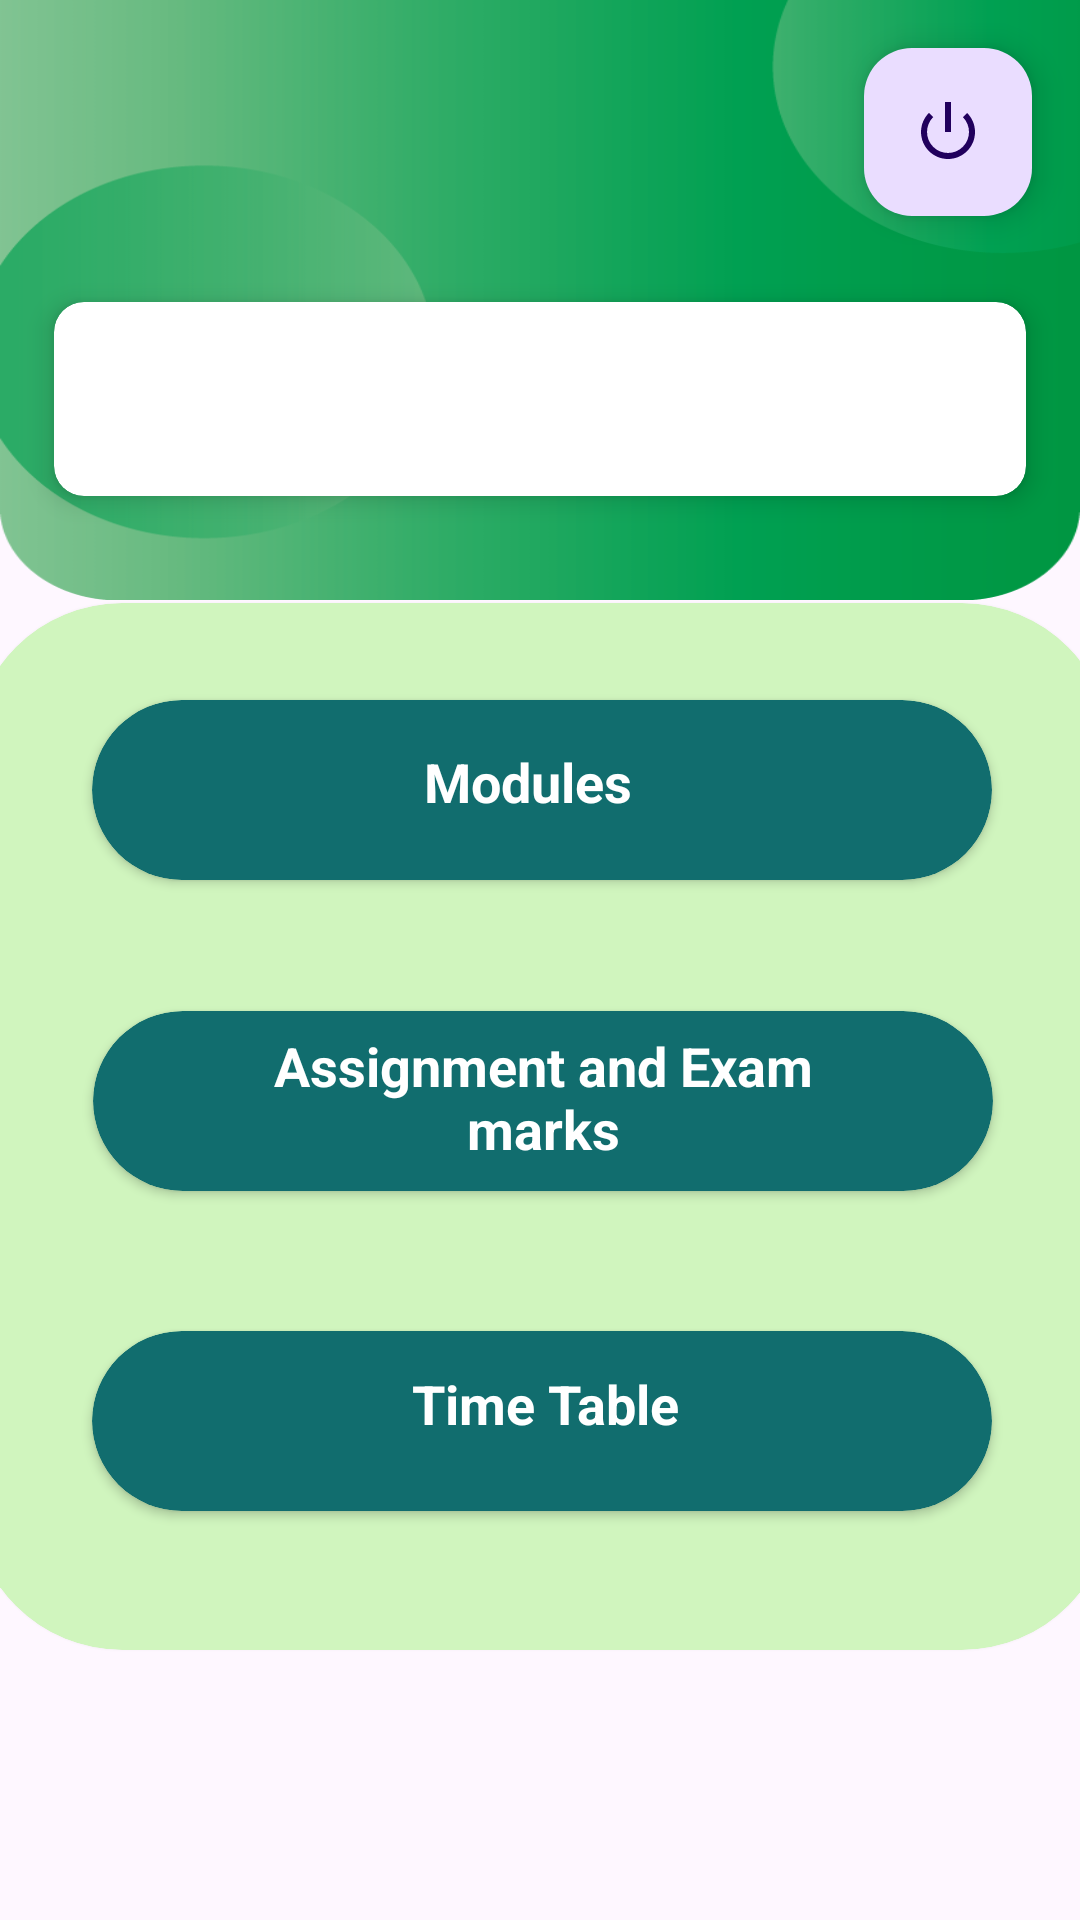

Point at icon controls on the screen. Image size 1080 x 1920, points as (x,y).
lock power off: (948,132)
